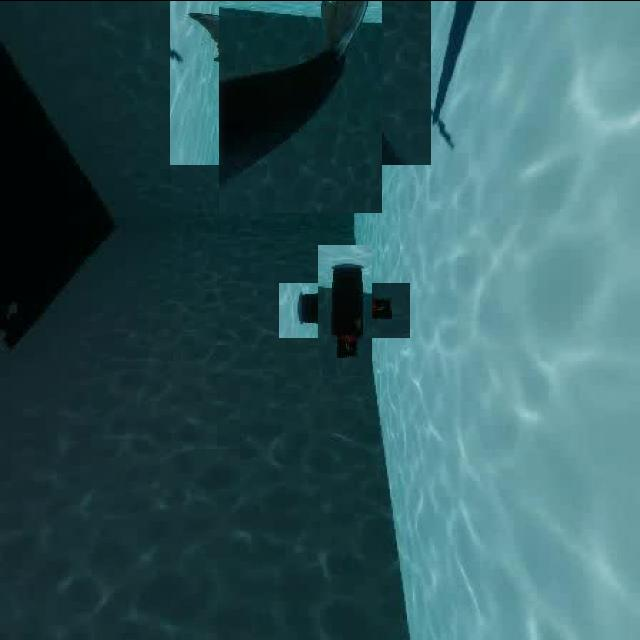Cylinder: (298, 263, 391, 356)
Whale: (194, 0, 406, 188)
